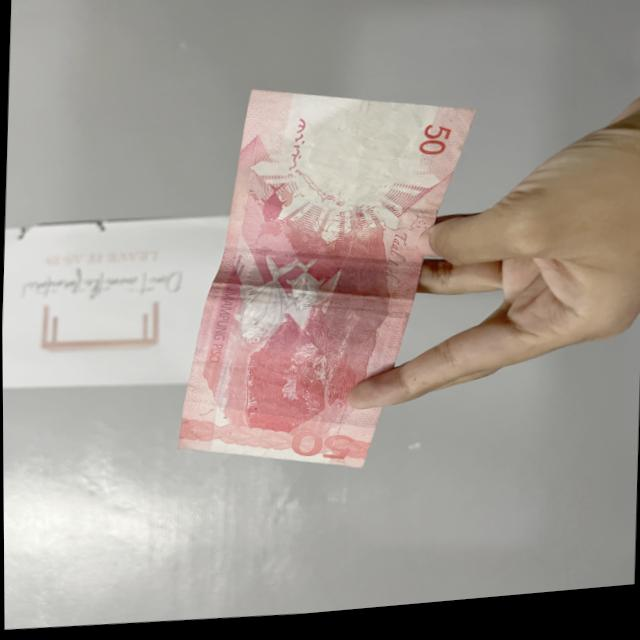see_through_mark: (274, 105, 312, 189)
